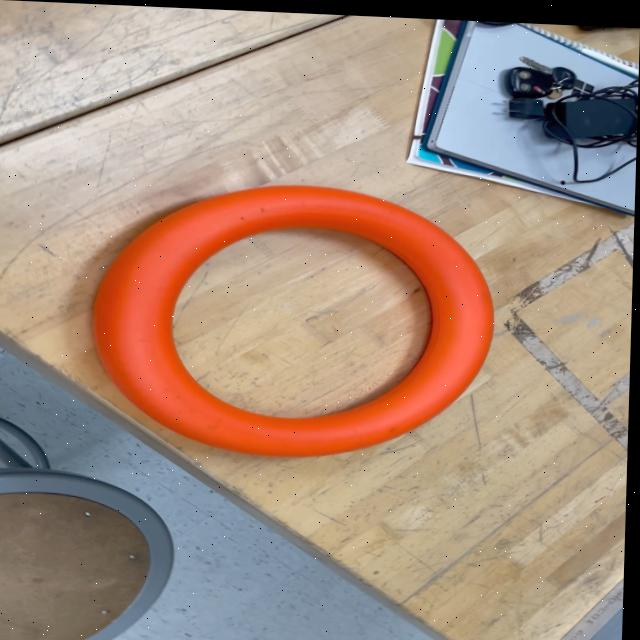note: (87, 173, 504, 464)
